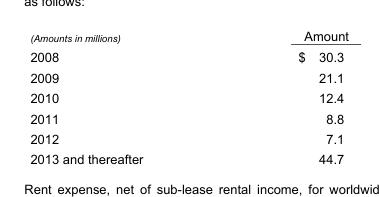table: (29, 28, 347, 166)
table column: (29, 28, 220, 166), (220, 28, 347, 166)
table column header: (29, 28, 347, 46)
table row: (29, 46, 347, 67), (29, 107, 347, 128), (29, 67, 347, 87), (29, 87, 347, 107), (29, 128, 347, 148), (29, 28, 347, 46), (29, 148, 347, 166)
